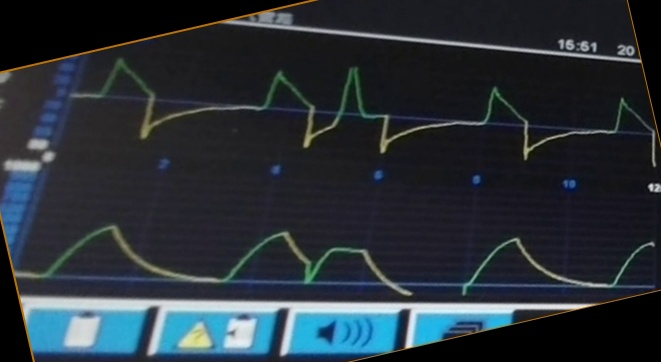Double_Triggering Flow: (98, 61, 627, 161)
Double_Triggering Volume: (47, 222, 634, 296)
